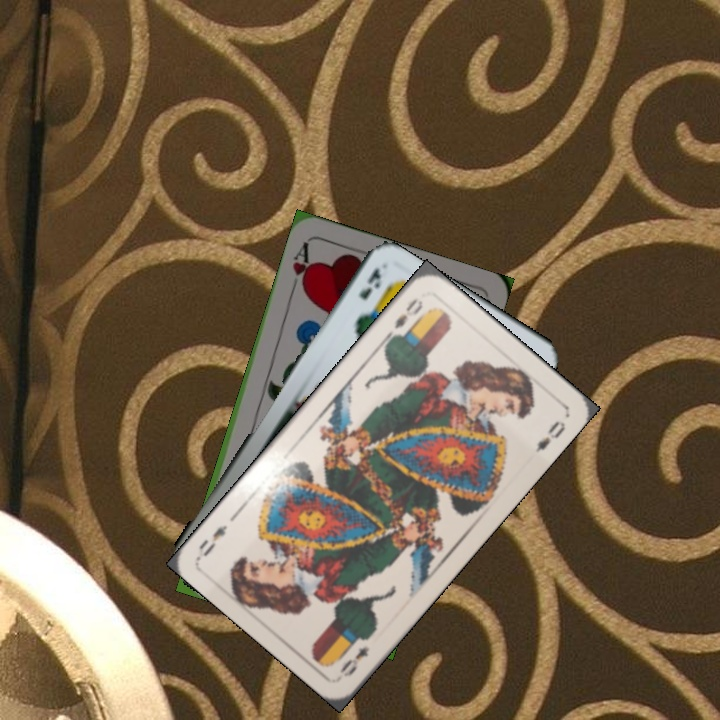EK: (354, 263, 384, 303)
EO: (384, 293, 426, 341), (335, 642, 372, 680)
HA: (286, 238, 315, 296)
